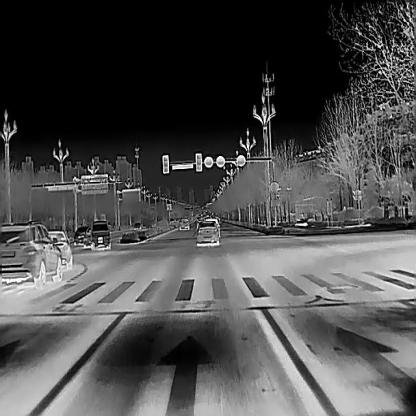car: (0, 218, 62, 290), (42, 228, 73, 270), (89, 218, 111, 250), (195, 219, 220, 246), (71, 224, 93, 244), (178, 217, 190, 230), (133, 221, 142, 229)
